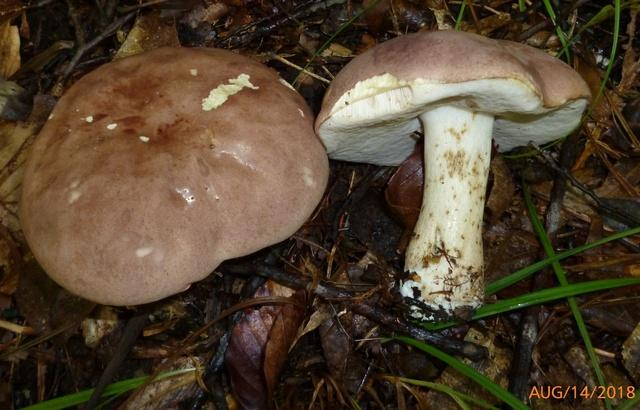Non-edible Mushroom: (313, 27, 592, 323), (17, 44, 330, 307)
